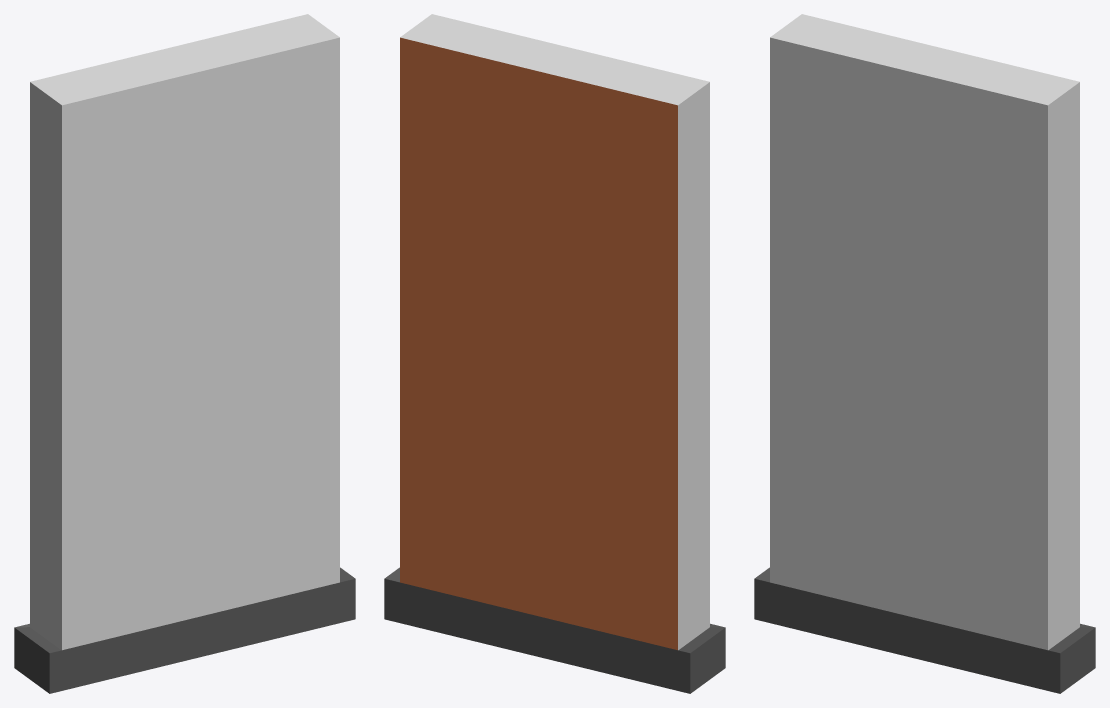
Rendered from Mapa.fbx.
3 renders of one model, left to right at view 1: azimuth 30°, elevation 25°; view 2: azimuth 150°, elevation 25°; view 3: azimuth 330°, elevation 25°, orthographic.
Visible parts, largest first — view 1: Cube; view 2: Cube; view 3: Cube.
Part boxes in pixels (bbox=[...]): Cube: bbox=[14, 14, 355, 693]; Cube: bbox=[384, 14, 725, 693]; Cube: bbox=[754, 14, 1095, 693].
Size of the model in its own units: 54.99 by 100 by 11.
